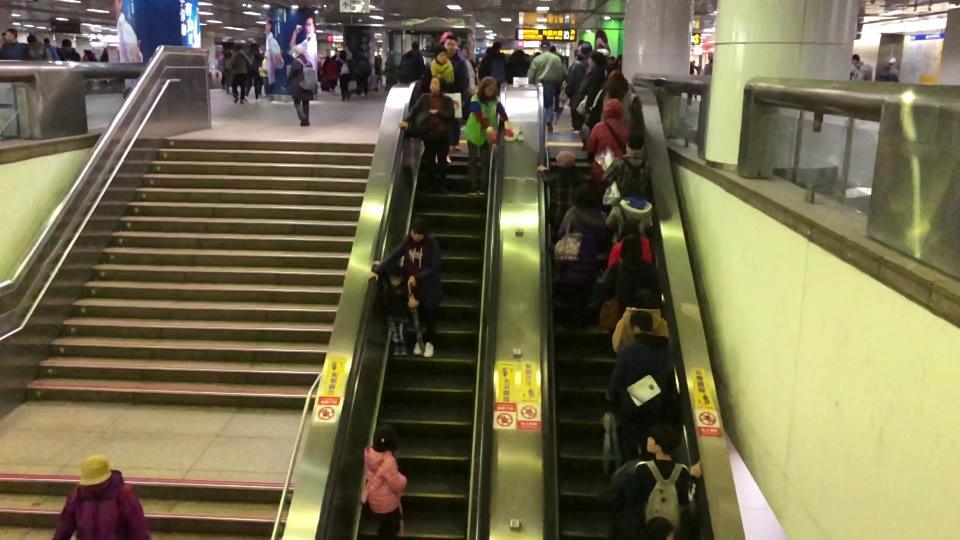person_head: (78, 453, 112, 494), (644, 422, 682, 457), (570, 181, 601, 210), (372, 423, 397, 452), (628, 309, 654, 336), (619, 234, 644, 261), (632, 286, 659, 310), (604, 69, 628, 94), (600, 98, 625, 121), (624, 131, 646, 157), (554, 150, 577, 174), (409, 215, 428, 243), (477, 75, 499, 99), (619, 220, 641, 240), (622, 177, 642, 198), (586, 51, 607, 69), (428, 75, 447, 94), (388, 265, 404, 287), (443, 34, 458, 55), (577, 41, 592, 61), (434, 45, 448, 64), (290, 43, 305, 58), (4, 28, 18, 42), (60, 37, 72, 50), (512, 49, 525, 61), (539, 39, 551, 52), (26, 34, 37, 47), (491, 41, 502, 52), (460, 47, 470, 59), (614, 54, 622, 68), (850, 53, 860, 64), (233, 42, 243, 52), (410, 40, 420, 50), (887, 56, 897, 66), (249, 42, 258, 52), (608, 55, 616, 66), (338, 50, 347, 59), (224, 49, 232, 58), (356, 47, 365, 55), (484, 46, 492, 55), (43, 37, 50, 46), (706, 53, 713, 62), (549, 45, 556, 53), (330, 55, 336, 62), (101, 48, 107, 54), (219, 50, 224, 56), (376, 52, 380, 57)
person_vbox: (366, 215, 444, 358), (605, 309, 674, 466), (622, 422, 703, 540), (49, 453, 153, 540), (593, 233, 661, 359), (555, 181, 611, 332), (397, 75, 455, 195), (462, 75, 514, 197), (412, 45, 458, 164), (362, 423, 407, 540), (535, 150, 587, 241), (584, 98, 631, 188), (610, 286, 670, 355), (600, 131, 652, 202), (526, 39, 563, 134), (604, 177, 653, 243), (584, 69, 637, 129), (280, 43, 317, 127), (577, 51, 608, 151), (444, 34, 470, 151), (381, 265, 409, 356), (565, 41, 592, 133), (606, 220, 652, 267), (229, 42, 249, 104), (549, 44, 566, 113), (397, 40, 424, 83), (243, 42, 262, 102), (352, 47, 371, 97), (505, 48, 530, 84), (335, 49, 351, 101), (0, 28, 24, 59), (24, 34, 51, 60), (491, 41, 507, 83), (460, 47, 477, 85), (56, 37, 81, 61), (257, 50, 268, 98), (477, 46, 492, 81), (325, 55, 339, 91), (222, 49, 232, 94), (43, 37, 59, 61), (849, 53, 863, 80), (885, 56, 899, 81), (216, 49, 224, 90), (374, 52, 382, 85), (703, 53, 713, 75), (99, 48, 109, 62)
